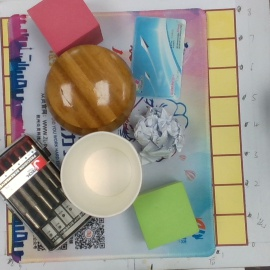card: (130, 13, 186, 100)
chess: (42, 43, 136, 135)
cup: (61, 131, 142, 219)
